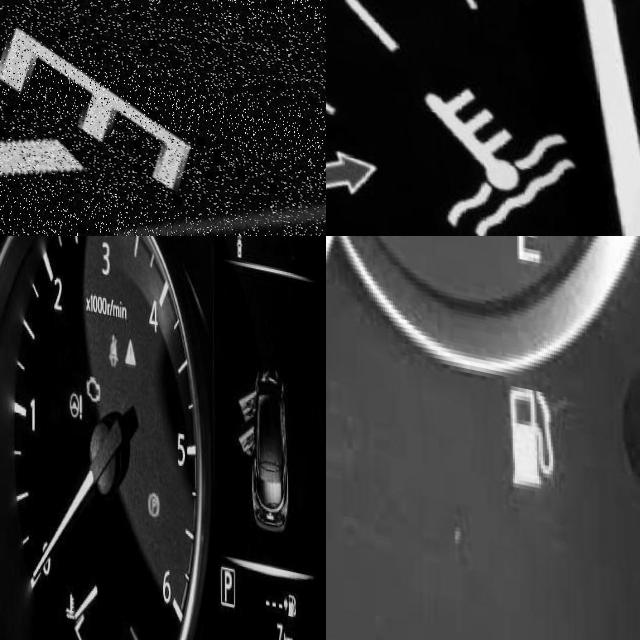Electronic Power Steering: (64, 382, 84, 416)
Seat Belt: (105, 326, 119, 361)
